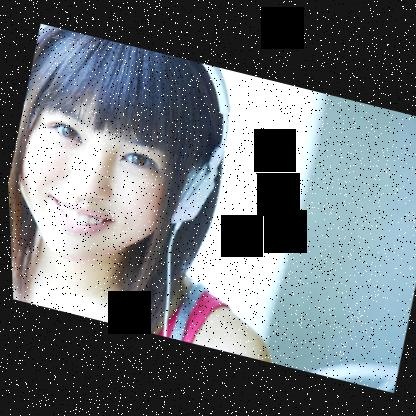Female: (3, 78, 185, 278)
